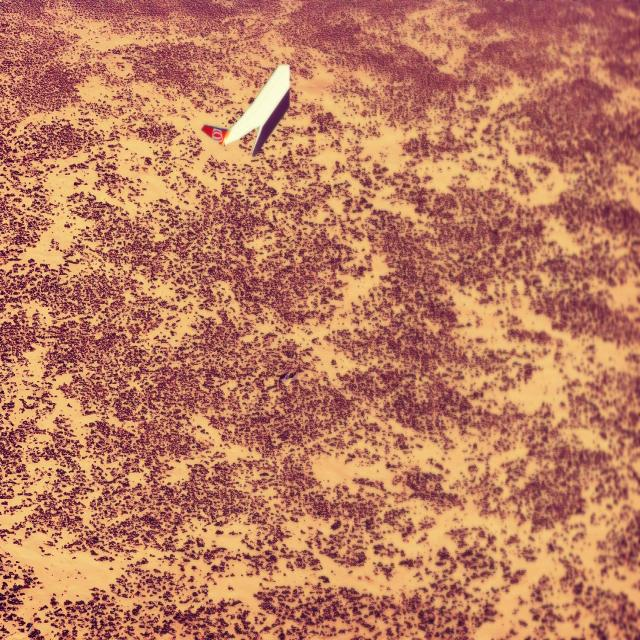airplane: (201, 62, 290, 158)
